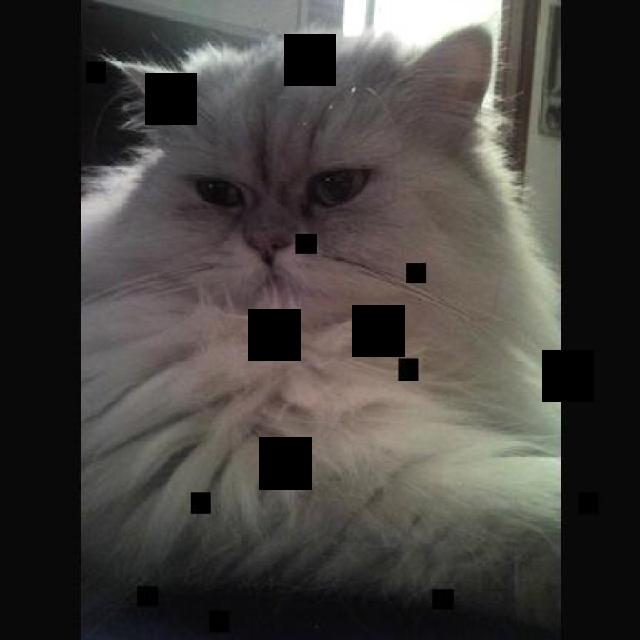unauthorized: (78, 17, 560, 632)
